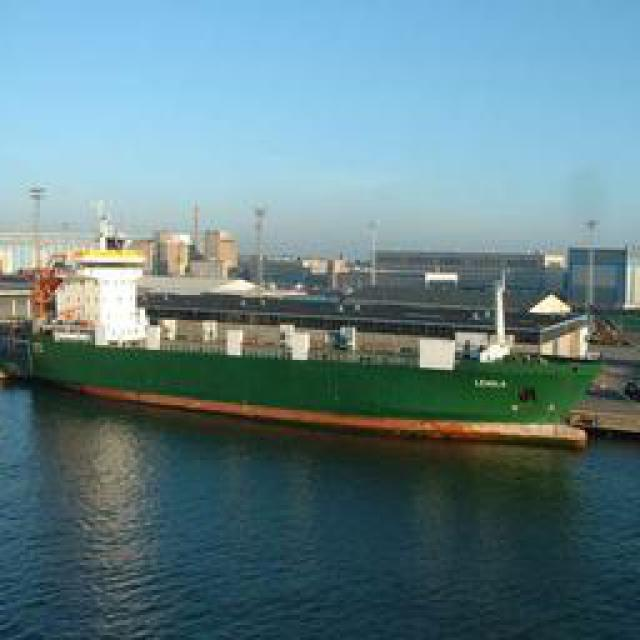Ship: (16, 285, 624, 448)
